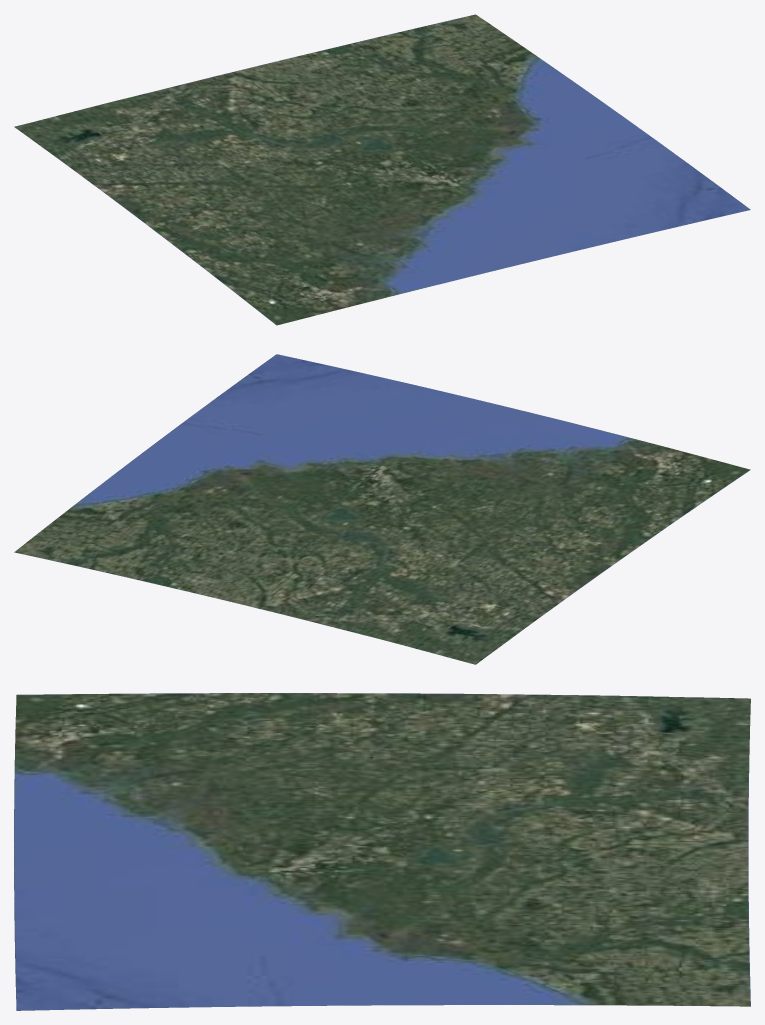
3 renders of one model, top to bottom at view 1: azimuth 30°, elevation 25°; view 2: azimuth 150°, elevation 25°; view 3: azimuth 270°, elevation 25°, orthographic. The views are drawn at different scales.
Bounding box in the file's own units: 265872 × 2734 × 262035.
Materials: 1 (1 with a texture image).
